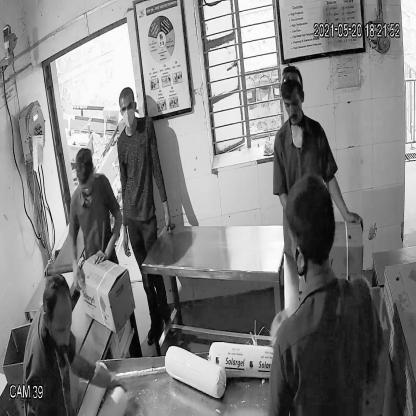no_goggles: (280, 92, 304, 113), (117, 100, 136, 115)
